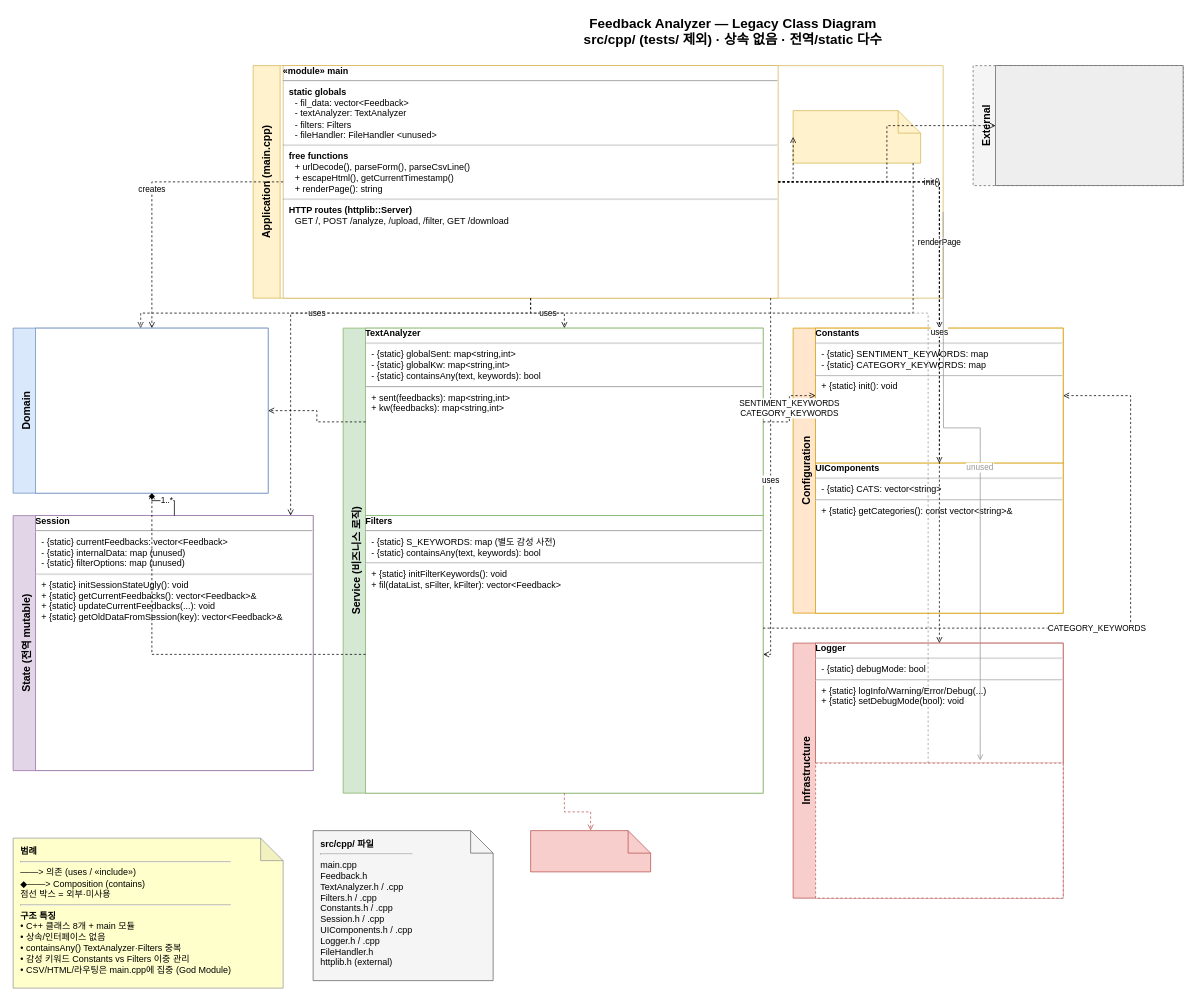
Some shapes in this 1196 by 1001 pixel diagram are drawn without their labels. The shapes that lost their labels are listed below. From the top down, each one's centre as x and y in pixels, then its label:
At point (856, 136): "fil_data (main static) → GET /download".
At point (1089, 125): "«external» httplib + Server + Request + Response".
At point (151, 410): "Feedback - text: string + Feedback(text: string) + getText(): const string&".
At point (939, 830): "FileHandler «stub / dead code» + saveResult(data): void + save(data): void".
At point (590, 851): "S_KEYWORDS (initFilterKeywords) ↔ Constants 중복".
